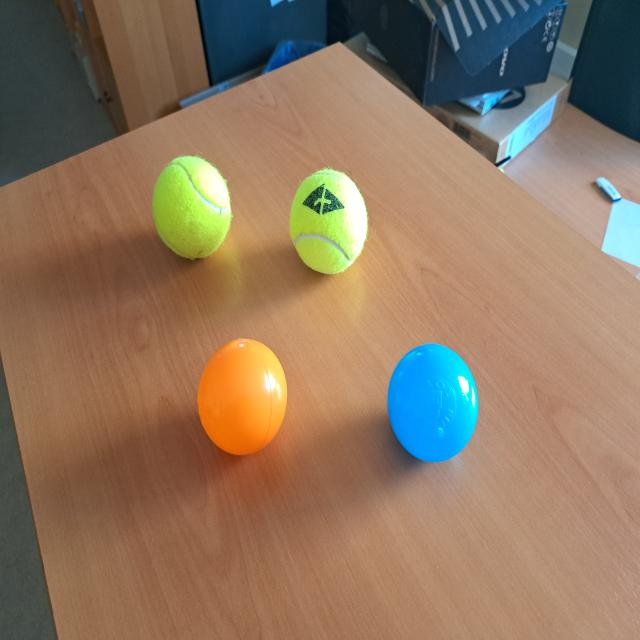blue: (388, 342, 478, 463)
orange: (196, 335, 288, 457)
tennis: (288, 165, 369, 279), (152, 156, 232, 264)
